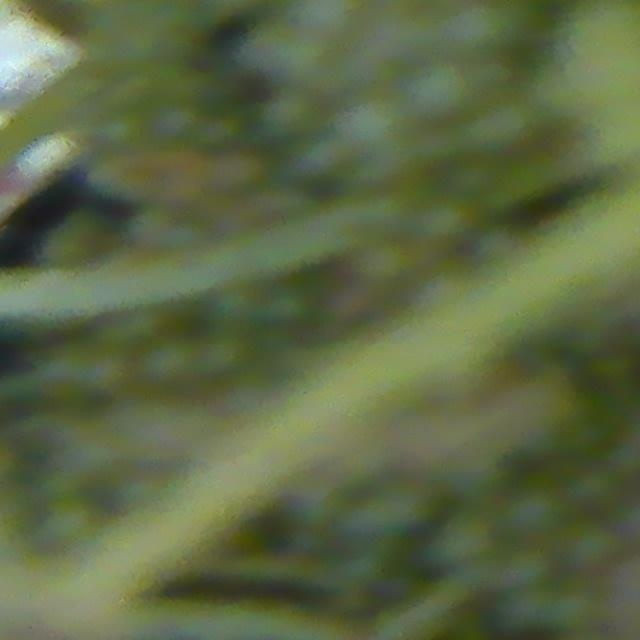SeaGrape: (334, 91, 414, 169), (450, 0, 533, 58), (406, 58, 477, 124), (503, 482, 565, 541), (436, 510, 493, 565), (563, 516, 619, 570), (296, 0, 369, 41), (505, 544, 552, 591)
